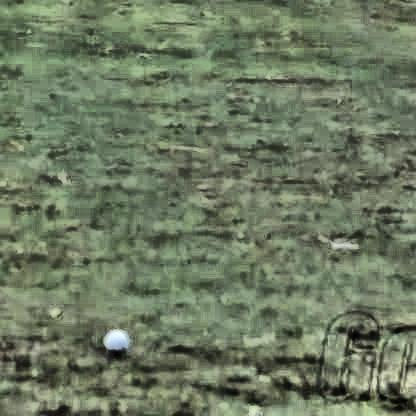golfball: (99, 326, 127, 351)
